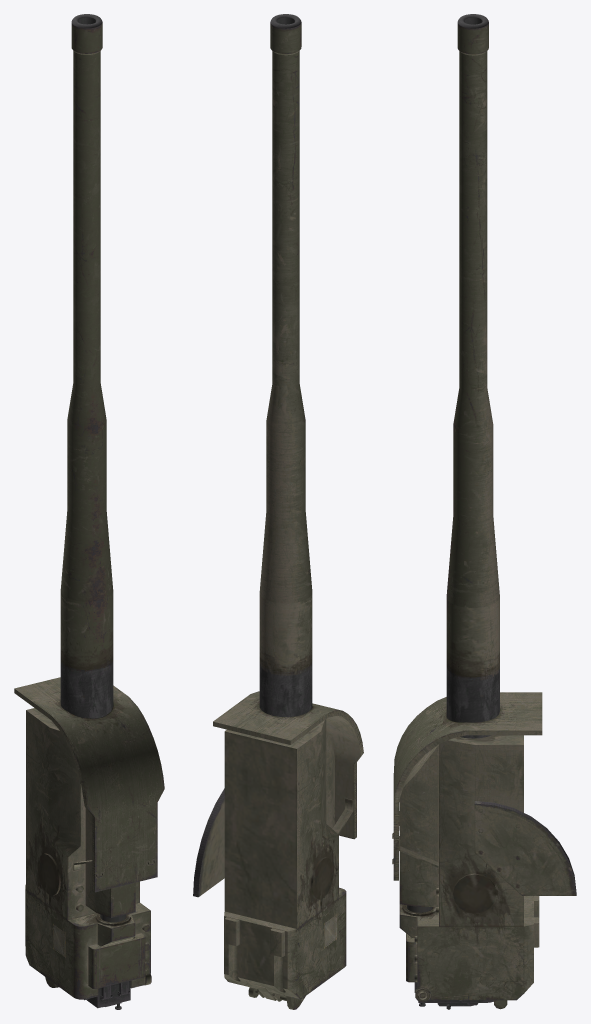
Rendered from Gun_01.glb.
3 renders of one model, left to right at view 1: azimuth 30°, elevation 25°; view 2: azimuth 150°, elevation 25°; view 3: azimuth 270°, elevation 25°, orthographic.
Parts seen in each view (by area): view 1: set_0_group_0; view 2: set_0_group_0; view 3: set_0_group_0.
Part boxes in pixels (left/top/right/bottom): set_0_group_0: left=14, top=14, right=164, bottom=1009; set_0_group_0: left=193, top=14, right=363, bottom=1009; set_0_group_0: left=392, top=14, right=576, bottom=1009.
Bounding box in the file's own units: 0.8888 × 10.31 × 1.75.
Materials: 1 (1 with a texture image).
